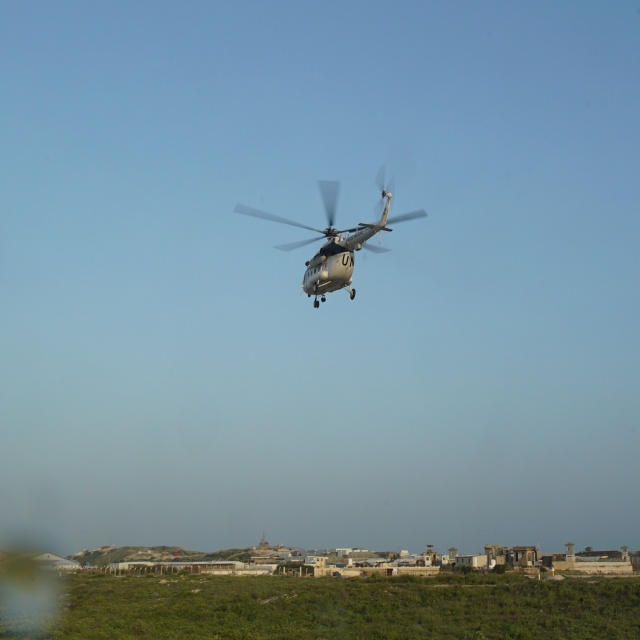helicopter: (233, 163, 431, 308)
